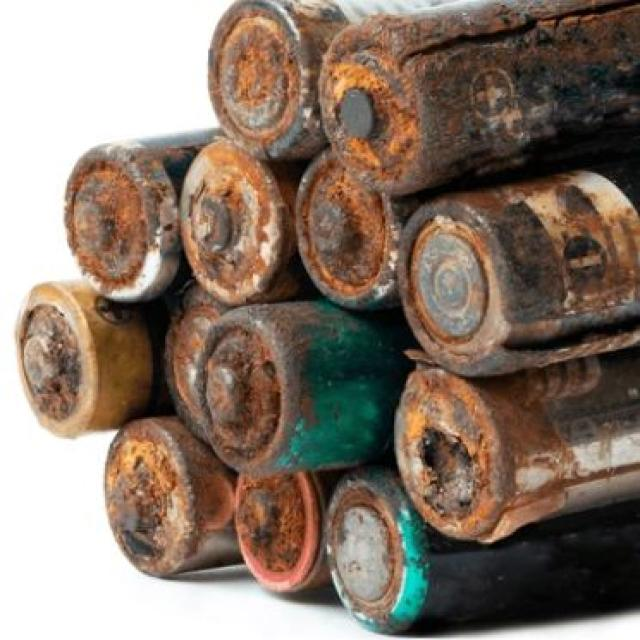electronic: (42, 80, 217, 322)
